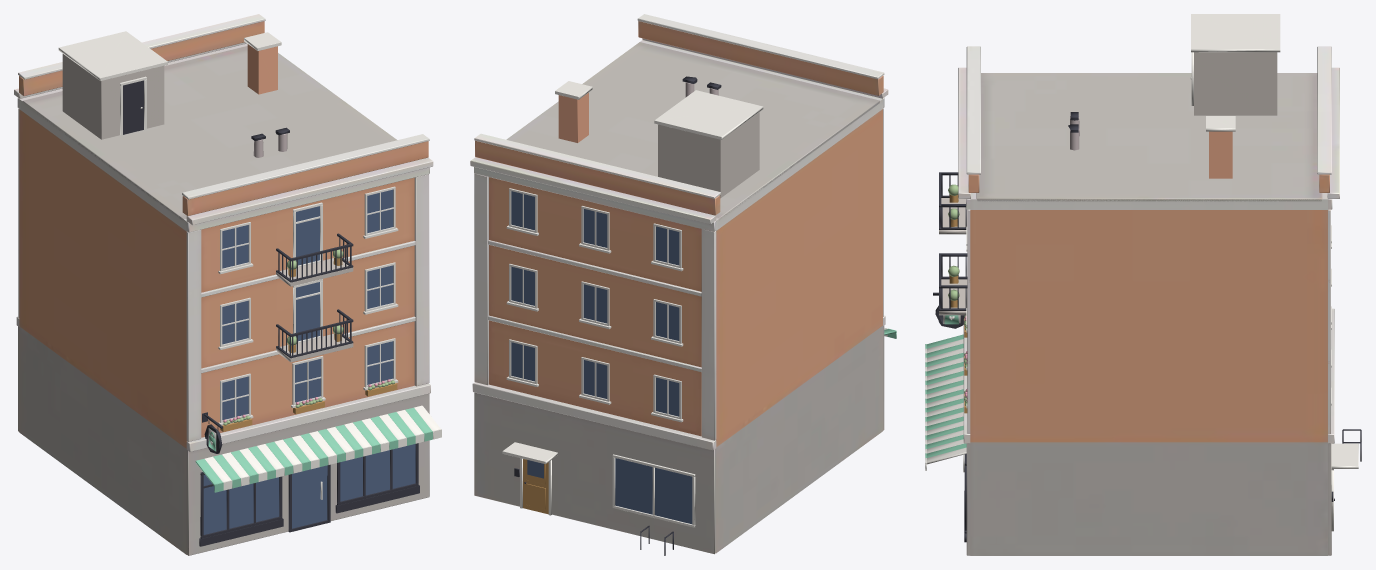
The model's file is city-block-filler.glb.
The picture shows the model from 3 angles, left to right: view 1: azimuth 30°, elevation 25°; view 2: azimuth 150°, elevation 25°; view 3: azimuth 270°, elevation 25°; orthographic projection. The views are drawn at different scales.
Parts seen in each view (by area): view 1: city-block-filler_body, city-block-filler_details; view 2: city-block-filler_body, city-block-filler_details; view 3: city-block-filler_body, city-block-filler_details.
Boxes of the visible parts, box(x1,y1,x2,y2) form: city-block-filler_body: box(14, 14, 433, 555); city-block-filler_details: box(58, 31, 441, 546); city-block-filler_body: box(470, 14, 888, 554); city-block-filler_details: box(502, 76, 896, 555); city-block-filler_body: box(958, 46, 1339, 555); city-block-filler_details: box(925, 14, 1361, 542).
Size of the model in its own units: 10 by 15.72 by 14.63.
2 materials, 2 textured.
